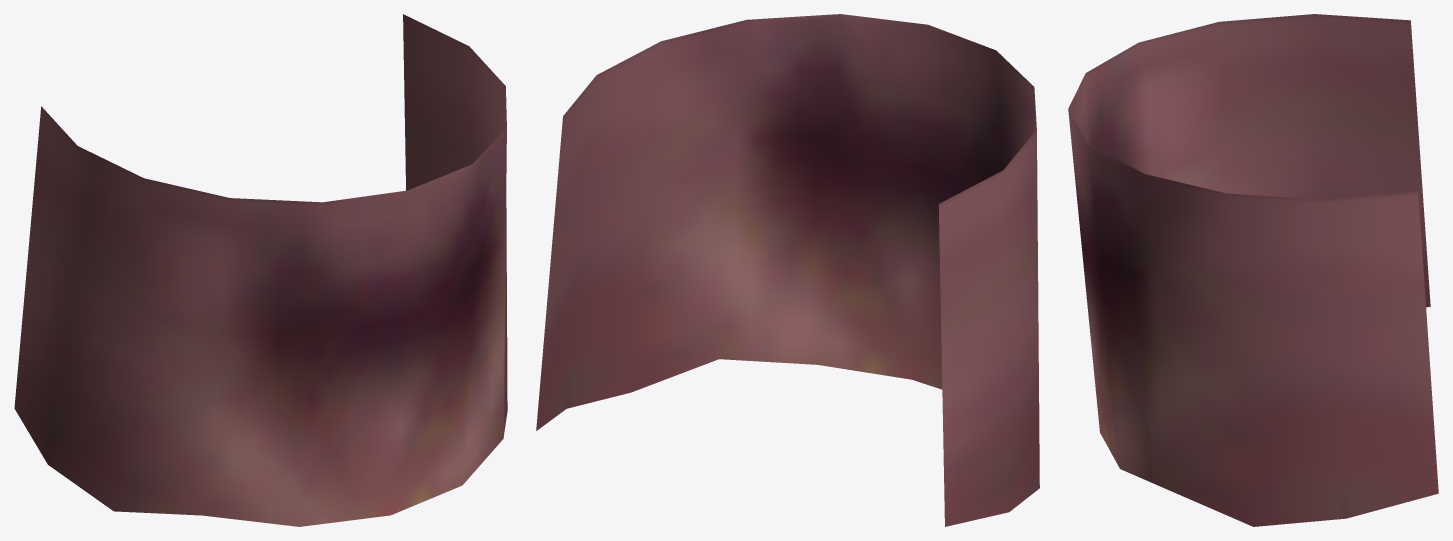
3 renders of one model, left to right at view 1: azimuth 30°, elevation 25°; view 2: azimuth 150°, elevation 25°; view 3: azimuth 270°, elevation 25°, orthographic. The views are drawn at different scales.
Parts seen in each view (by area): view 1: neck; view 2: neck; view 3: neck.
Boxes of the visible parts, x1,y1,x2,y2 form: neck: (14,14,507,526); neck: (536,14,1039,526); neck: (1068,14,1438,526).
Bounding box in the file's own units: 9.6 × 7.22 × 7.44.
